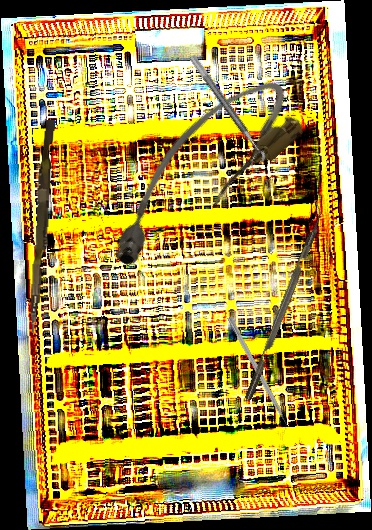Cannula: (81, 63, 315, 281)
Chopper: (235, 199, 330, 401), (220, 316, 293, 436)
Fixation Ring: (180, 54, 268, 169)
Pusher: (28, 119, 56, 334)
